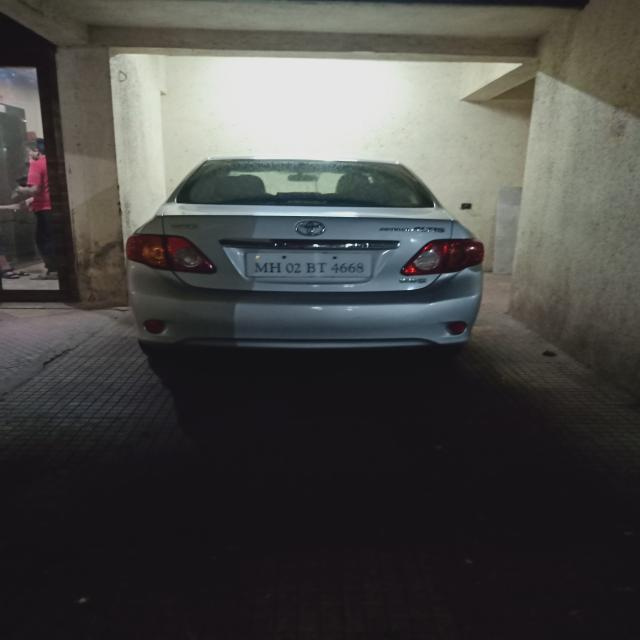Number-Plate: (252, 247, 368, 281)
